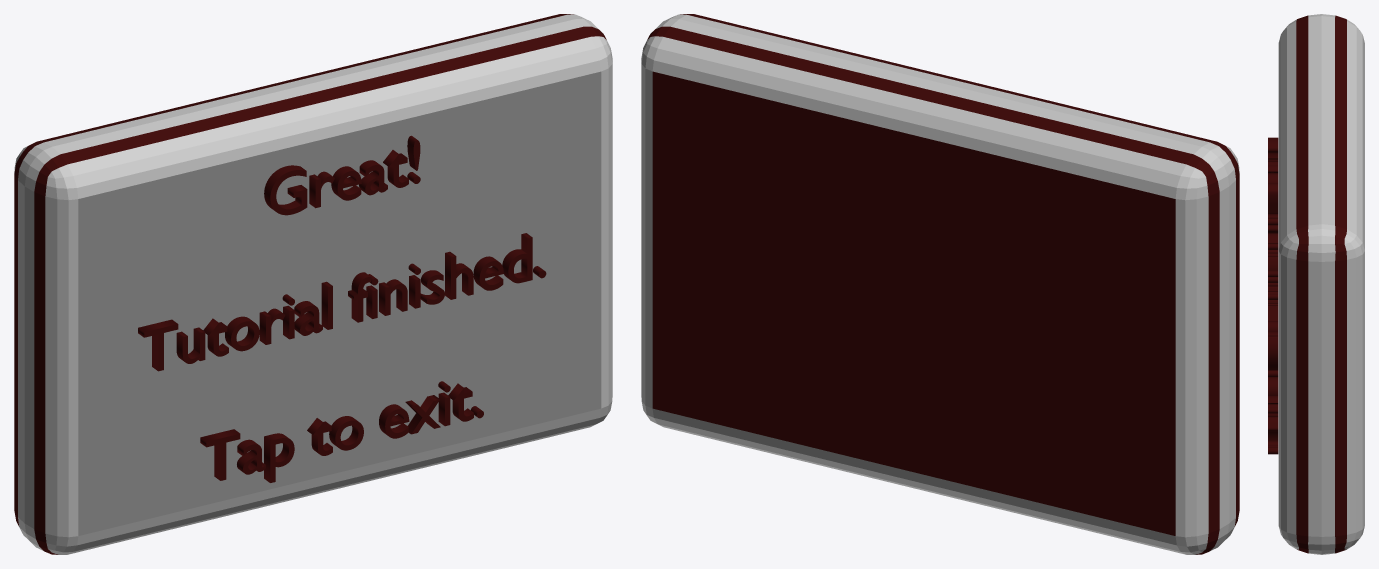
The model's file is box_exit4.obj.
3 views of the same model, side by side, from view 1: azimuth 30°, elevation 25°; view 2: azimuth 150°, elevation 25°; view 3: azimuth 270°, elevation 25° (orthographic). The views are drawn at different scales.
Parts seen in each view (by area): view 1: box_exit; view 2: box_exit; view 3: box_exit.
Part boxes in pixels (left/top/right/bottom): box_exit: left=14, top=14, right=612, bottom=554; box_exit: left=641, top=14, right=1239, bottom=554; box_exit: left=1268, top=14, right=1364, bottom=554.
Size of the model in its own units: 0.2981 by 0.1988 by 0.0531.
